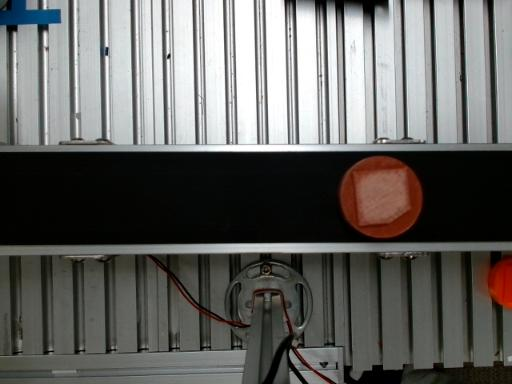Brown_Waper: (338, 156, 422, 238)
Not_Square: (352, 167, 412, 227)
